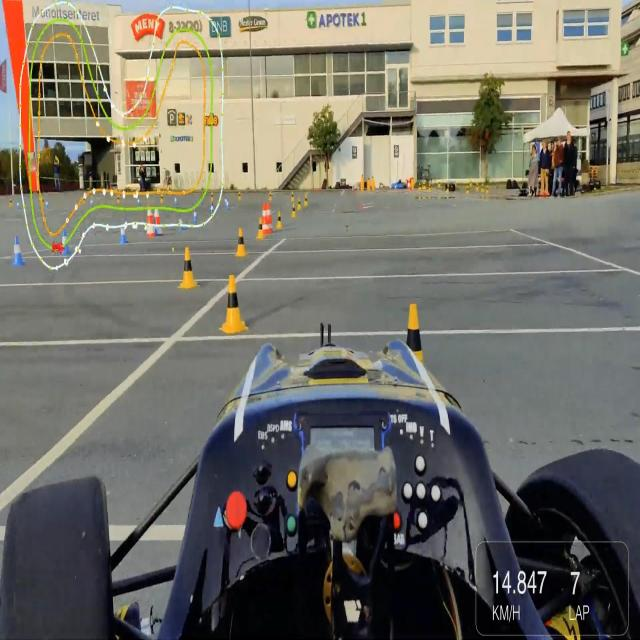yellow_cone: (393, 303, 434, 422), (221, 272, 249, 337), (177, 242, 199, 292), (232, 226, 247, 260)
